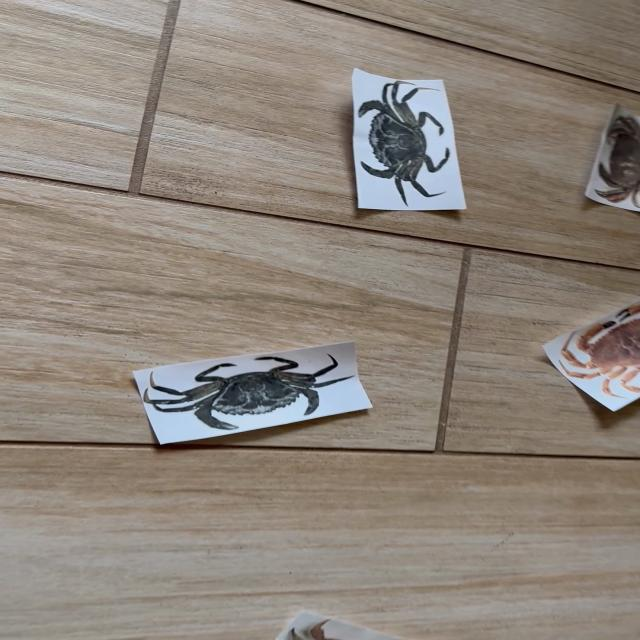egc: (140, 352, 358, 434), (341, 78, 468, 210), (397, 128, 398, 128)
